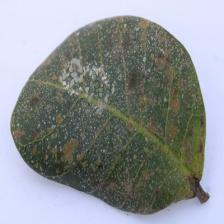red rust: (10, 18, 208, 217)
